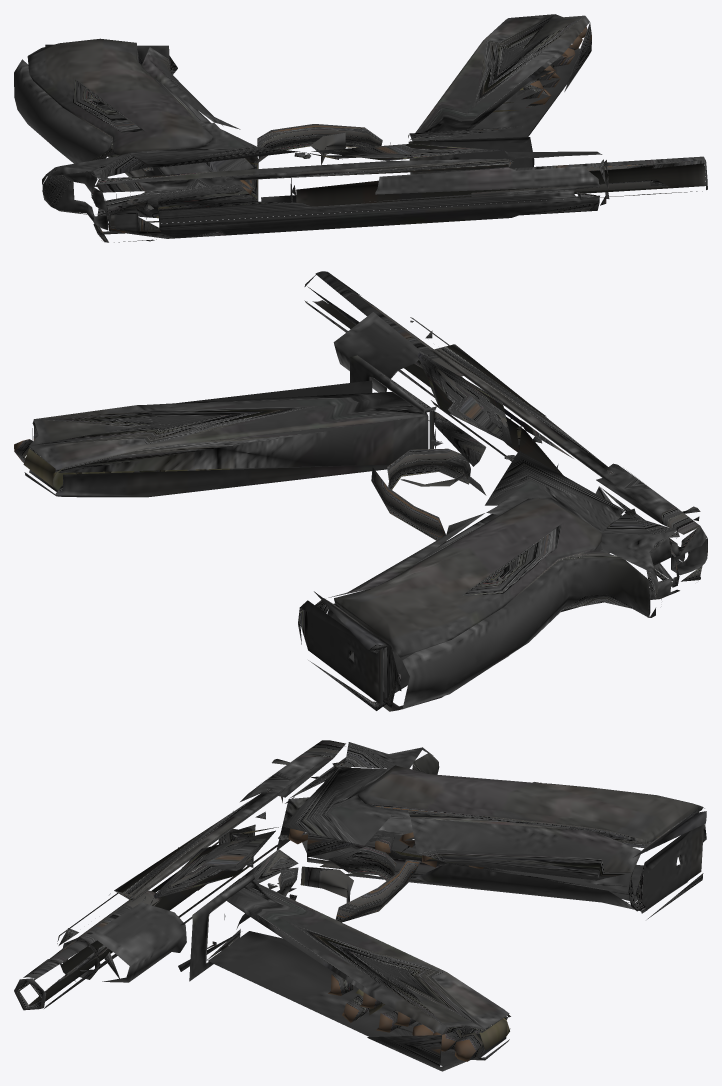
The picture shows the model from 3 angles, top to bottom: view 1: azimuth 30°, elevation 25°; view 2: azimuth 150°, elevation 25°; view 3: azimuth 270°, elevation 25°; orthographic projection. The views are drawn at different scales.
Visible parts, largest first — view 1: p_cz75; view 2: p_cz75; view 3: p_cz75.
Part boxes in pixels (x1=…): p_cz75: x1=14, y1=14, x2=707, y2=242; p_cz75: x1=14, y1=271, x2=707, y2=711; p_cz75: x1=14, y1=740, x2=706, y2=1071.
Size of the model in its own units: 0.3965 by 0.0646 by 0.3826.
Materials: 1 (1 with a texture image).
